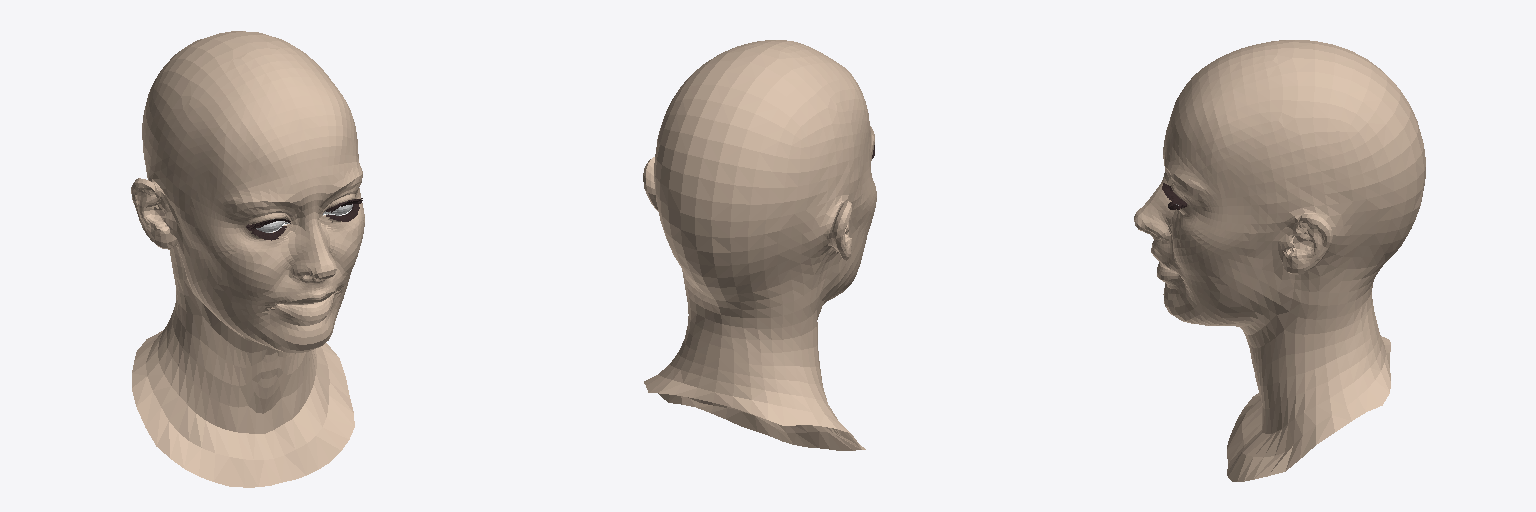
The picture shows the model from 3 angles: view 1: azimuth 30°, elevation 25°; view 2: azimuth 150°, elevation 25°; view 3: azimuth 270°, elevation 25°; orthographic projection.
Parts seen in each view (by area): view 1: Neutral MESHES_GRP ROOT_GRP; view 2: Neutral MESHES_GRP ROOT_GRP; view 3: Neutral MESHES_GRP ROOT_GRP.
Boxes of the visible parts, x1,y1,x2,y2 form: Neutral MESHES_GRP ROOT_GRP: [131, 31, 364, 487]; Neutral MESHES_GRP ROOT_GRP: [643, 40, 876, 450]; Neutral MESHES_GRP ROOT_GRP: [1134, 40, 1425, 481].
Size of the model in its own units: 1.74 by 3.39 by 2.16.